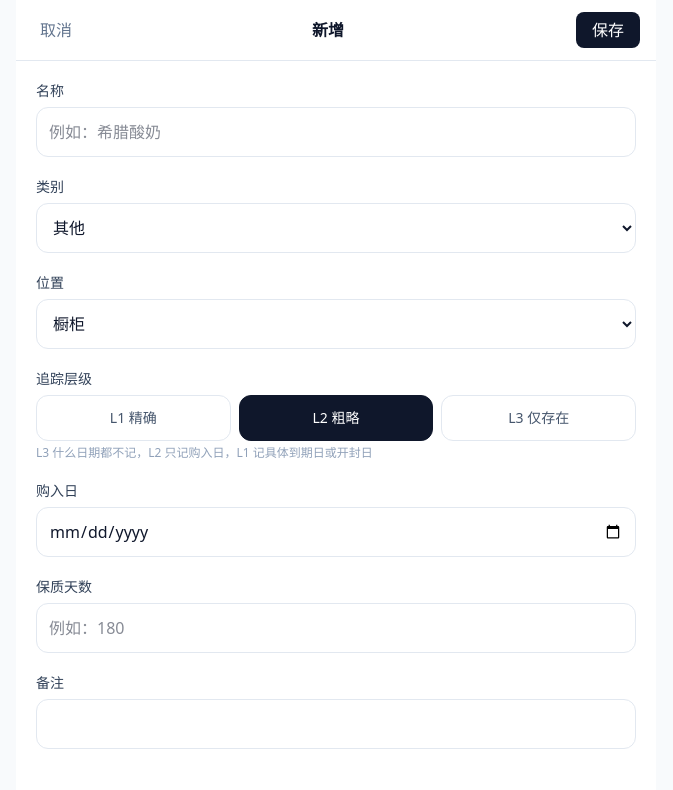
other validation › rejects an empty name
The image size is (673, 790).
Click the button "保存": point(608, 30) [576, 12, 640, 48]
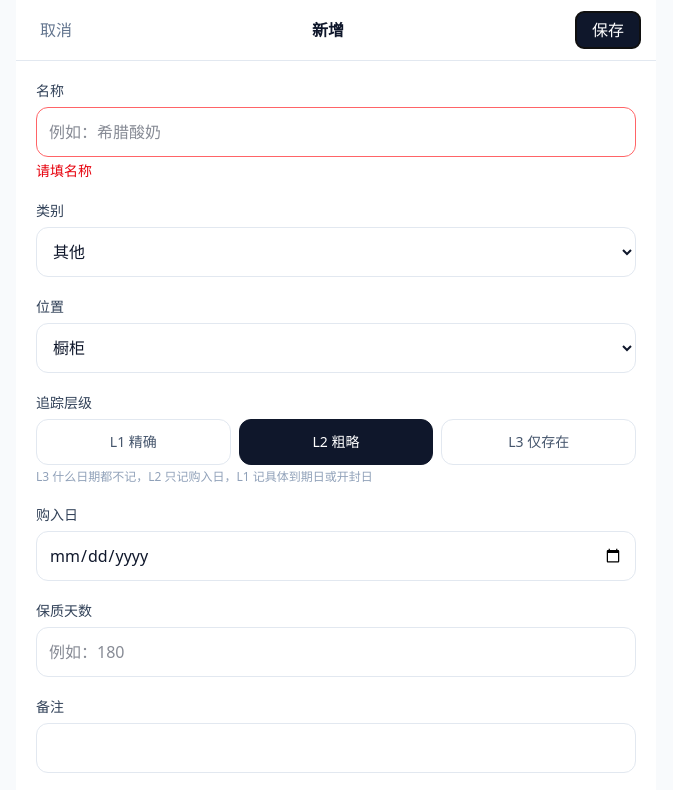
Expected: the message reads "请填名称", [36, 161, 92, 180]
